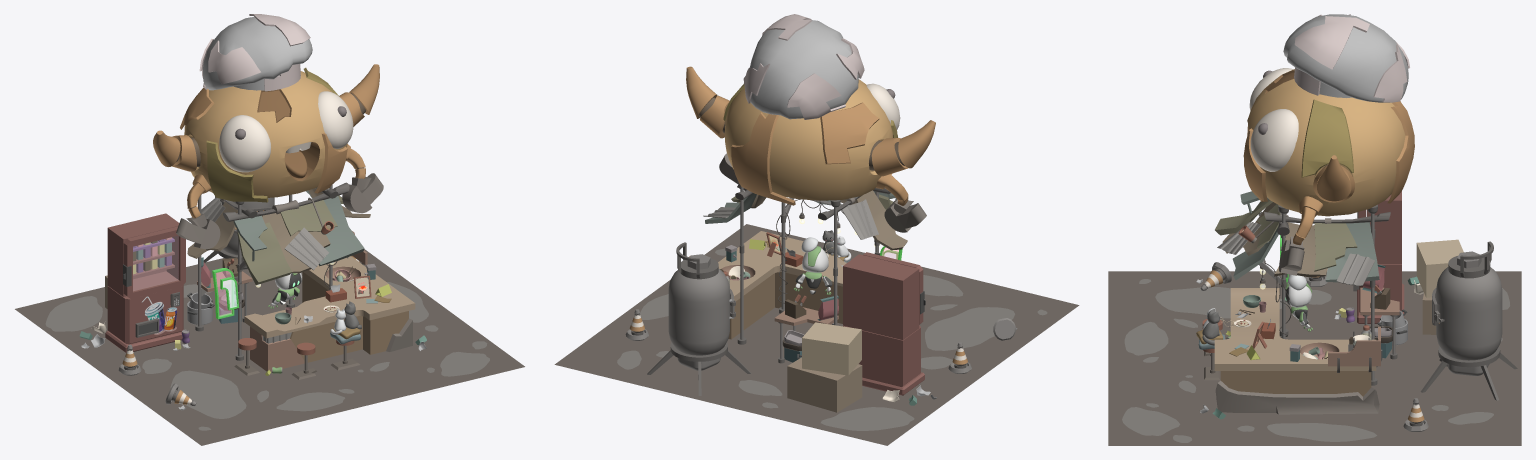
File: xyz_school_-_course_work_-_cozy_cyberpunk_cafe.glb
3 renders of one model, left to right at view 1: azimuth 30°, elevation 25°; view 2: azimuth 150°, elevation 25°; view 3: azimuth 270°, elevation 25°, orthographic. The views are drawn at different scales.
Visible parts, largest first — view 1: polySurface2027; view 2: polySurface2027; view 3: polySurface2027.
Boxes of the visible parts, x1,y1,x2,y2 form: polySurface2027: (15,14,524,445); polySurface2027: (554,14,1079,445); polySurface2027: (1108,14,1521,445).
Bounding box in the file's own units: 0.6271 × 0.574 × 0.6271.
79 materials, 5 textured.
